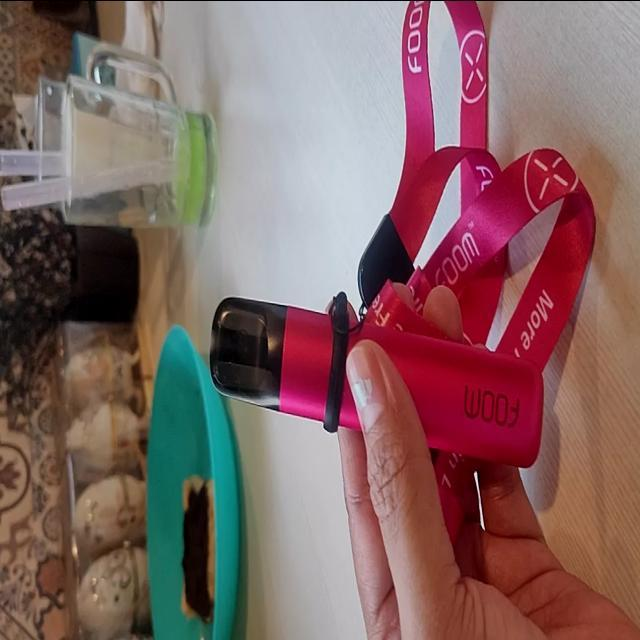Hazard: (209, 289, 546, 468)
